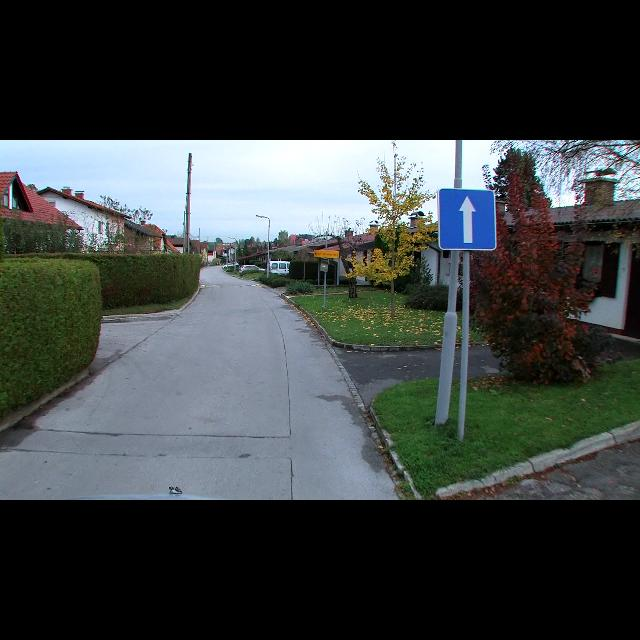Squared: (438, 188, 498, 250)
